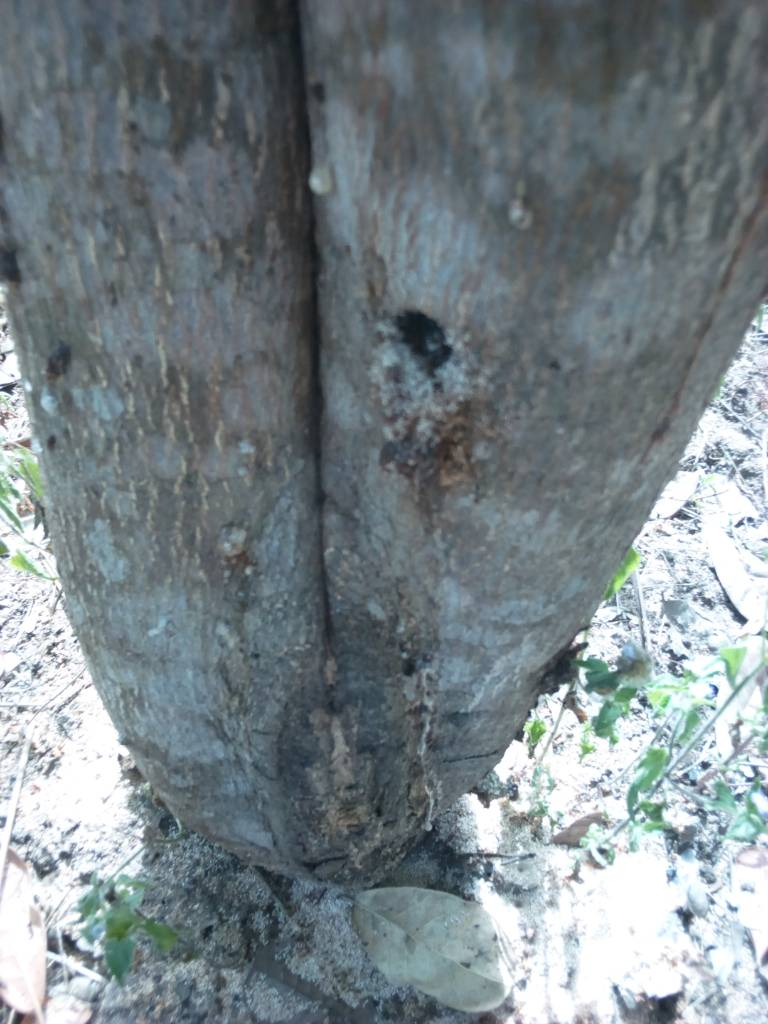Apate terebrans: (347, 278, 493, 397)
